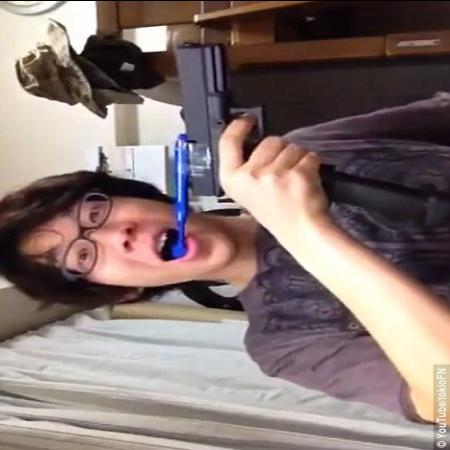Pistol: (166, 38, 336, 202)
